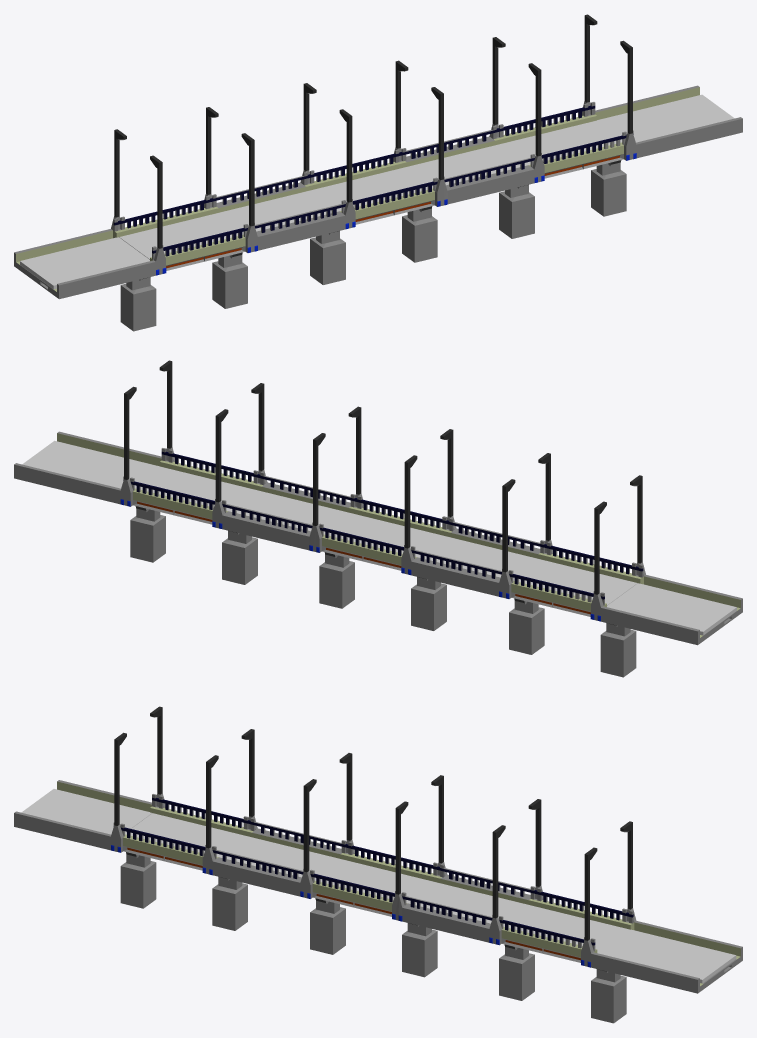
The model's file is bridge2.glb.
The picture shows the model from 3 angles, top to bottom: view 1: azimuth 30°, elevation 25°; view 2: azimuth 150°, elevation 25°; view 3: azimuth 330°, elevation 25°; orthographic projection.
Parts seen in each view (by area): view 1: Cube.003, Cube.000, Cube.006, Cube.008, Cube.009, Cube.002, Cube.007, Cube.004, Cube.005, Cube.001; view 2: Cube.003, Cube.000, Cube.006, Cube.008, Cube.009, Cube.007, Cube.002, Cube.001, Cube.004, Cube.005; view 3: Cube.000, Cube.003, Cube.006, Cube.009, Cube.008, Cube.005, Cube.002, Cube.007, Cube.004, Cube.001.
Part boxes in pixels (x1,y1,x2,y2): Cube.003: (14,107,346,331); Cube.000: (404,14,742,238); Cube.006: (300,60,447,284); Cube.008: (20,237,149,289); Cube.009: (604,94,734,142); Cube.002: (409,143,530,185); Cube.007: (218,190,339,234); Cube.004: (119,213,237,259); Cube.005: (506,118,636,161); Cube.001: (311,166,433,210); Cube.003: (410,453,742,677); Cube.000: (14,360,350,584); Cube.006: (309,406,456,630); Cube.008: (607,583,736,635); Cube.009: (22,440,152,488); Cube.007: (417,536,543,580); Cube.002: (226,488,347,531); Cube.001: (323,512,444,556); Cube.004: (513,560,637,605); Cube.005: (120,465,248,507); Cube.000: (402,799,742,1023); Cube.003: (14,706,342,930); Cube.006: (300,753,447,977); Cube.009: (605,931,736,983); Cube.008: (21,789,152,834); Cube.005: (515,908,637,954); Cube.002: (415,883,540,928); Cube.007: (218,836,343,880); Cube.004: (125,813,250,857); Cube.001: (316,860,441,903).
Size of the model in its own units: 2.56 by 0.636 by 0.2956.
